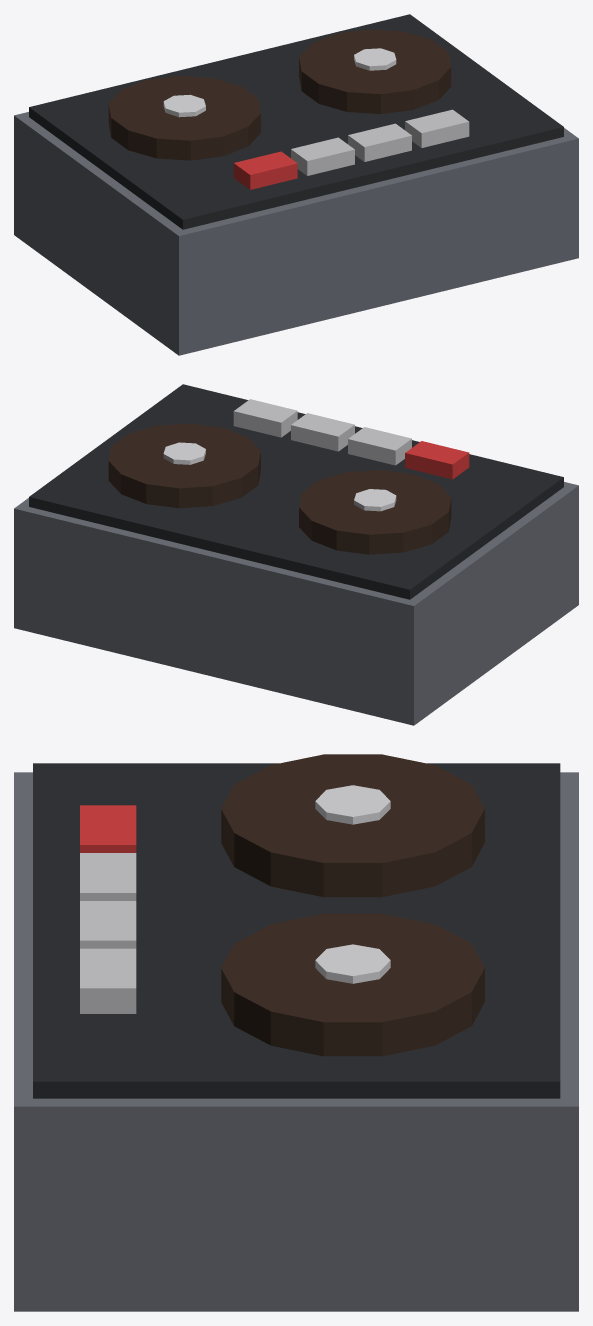
The model's file is tape_recorder.glb.
3 renders of one model, top to bottom at view 1: azimuth 30°, elevation 25°; view 2: azimuth 150°, elevation 25°; view 3: azimuth 270°, elevation 25°, orthographic. The views are drawn at different scales.
Visible parts, largest first — view 1: case_recorder_grey, panel_recorder_panel, reels_reel_tape (×2), keys_recorder_keys (×4), hubs_reel_hub (×2); view 2: case_recorder_grey, panel_recorder_panel, reels_reel_tape (×2), keys_recorder_keys (×4), hubs_reel_hub (×2); view 3: case_recorder_grey, panel_recorder_panel, reels_reel_tape (×2), keys_recorder_keys (×4), hubs_reel_hub (×2).
Boxes of the visible parts, <box> form: case_recorder_grey: <box>14,112,578,355</box>; panel_recorder_panel: <box>29,14,563,229</box>; reels_reel_tape (×2): <box>108,29,451,160</box>; keys_recorder_keys (×4): <box>233,109,469,189</box>; hubs_reel_hub (×2): <box>163,48,396,117</box>; case_recorder_grey: <box>14,482,578,725</box>; panel_recorder_panel: <box>29,384,563,599</box>; reels_reel_tape (×2): <box>108,423,451,554</box>; keys_recorder_keys (×4): <box>233,399,469,479</box>; hubs_reel_hub (×2): <box>163,442,396,511</box>; case_recorder_grey: <box>14,772,578,1311</box>; panel_recorder_panel: <box>33,763,560,1098</box>; reels_reel_tape (×2): <box>221,754,484,1056</box>; keys_recorder_keys (×4): <box>80,805,136,1013</box>; hubs_reel_hub (×2): <box>315,785,390,983</box>.
Size of the model in its own units: 0.42 by 0.1545 by 0.3.
